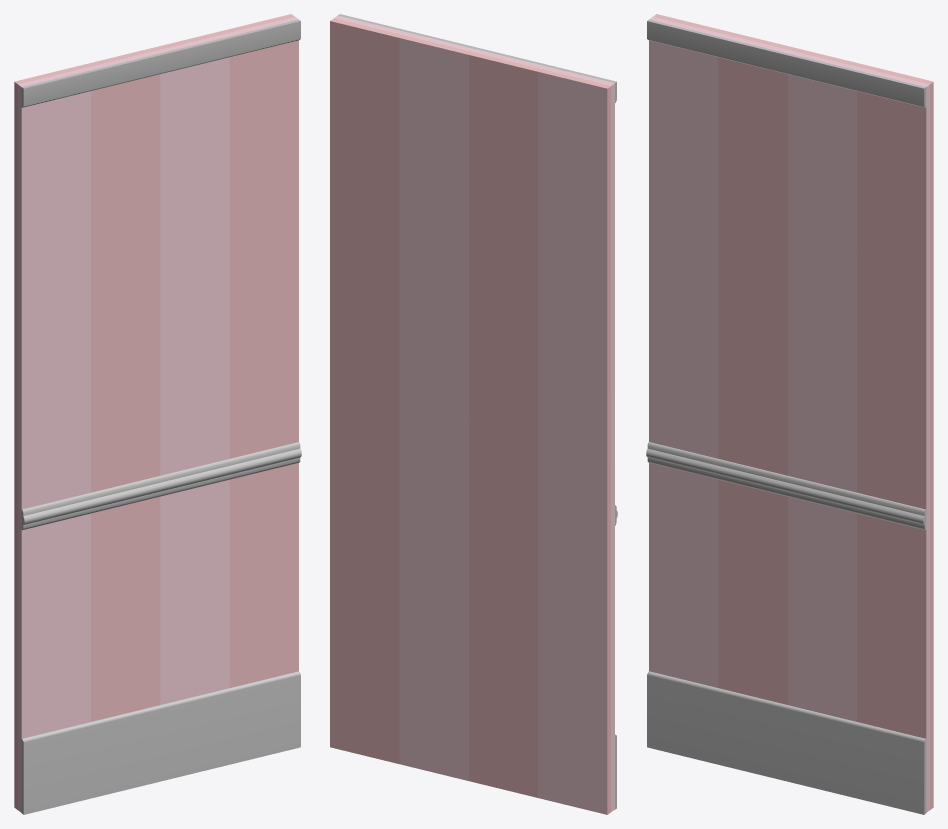
Rendered from Wall Interior.fbx.
3 renders of one model, left to right at view 1: azimuth 30°, elevation 25°; view 2: azimuth 150°, elevation 25°; view 3: azimuth 330°, elevation 25°, orthographic.
Visible parts, largest first — view 1: Wall_Interior; view 2: Wall_Interior; view 3: Wall_Interior.
Boxes of the visible parts, left/top/right/bottom form: Wall_Interior: left=14, top=14, right=301, bottom=814; Wall_Interior: left=330, top=14, right=617, bottom=814; Wall_Interior: left=646, top=14, right=933, bottom=814.
Bounding box in the file's own units: 1 × 2.5 × 0.0649.
